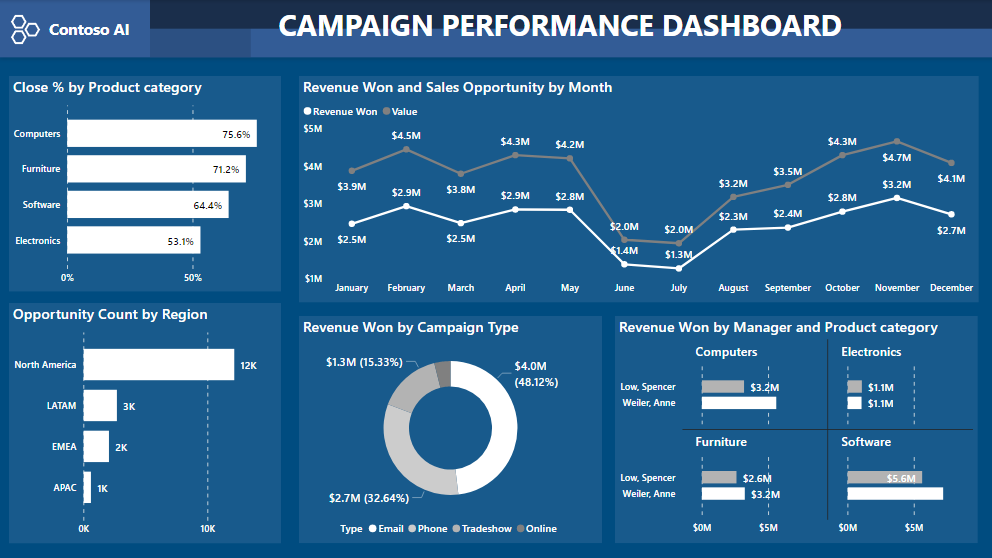

What the dashboard file says about the page in this screenshot:
{"tool":"powerbi","page":{"name":"Campaign performance Dashboard","canvas":[1280,720],"ordinal":0},"visuals":[{"type":"barChart","fields":{"Y":["Opportunities.Close %"],"Category":["Products.Product category"]},"box":[11,97.7,351,278],"z":0},{"type":"shape","title":"Horizontal Shape","box":[0,0.5,1312.3,73.7],"z":1000},{"type":"barChart","fields":{"Y":["Opportunities.Opportunity Count"],"Category":["Accounts.Region"]},"box":[11,390.9,351,309.7],"z":2000},{"type":"actionButton","title":"Btn - Sales","box":[193.9,0.5,129.8,73.7],"z":3000},{"type":"shape","title":"Horizontal Shape","box":[193.9,0.5,1118.3,36.8],"z":4000},{"type":"textbox","box":[316.6,1.4,813.4,72.9],"z":6000},{"type":"actionButton","title":"Title Logo","box":[49,16.8,134.2,41.3],"z":7000},{"type":"image","box":[3.9,0,58.1,74.8],"z":8000},{"type":"clusteredBarChart","fields":{"Y":["Opportunities.Revenue Won"],"Rows":["Products.Product category"],"Category":["Owners.Manager"]},"box":[794.2,407.4,468,293.2],"z":9000},{"type":"donutChart","title":"Revenue Won by Campaign Type","fields":{"Category":["Campaigns.Type"],"Y":["Opportunities.Revenue Won"]},"box":[385.4,407.4,390.9,293.2],"z":10000},{"type":"lineChart","title":"Revenue Won and Sales Opportunity by Month","fields":{"Category":["LocalDateTable_9e0bbdfc-9803-41d0-b204-481ce398f228.Month"],"Y":["Opportunities.Revenue Won","Opportunities.Value"]},"box":[385.4,97.7,876.7,291.8],"z":11000}]}

Visuals, with their boxes in screenshot pixels (x1, y1, x2, y2), scaled from the page's 1280x720 canvas onto the 992x558 screenshot:
barChart - Opportunities.Close % x Products.Product category: 9/76/281/291
"Horizontal Shape" shape: 0/0/991/58
barChart - Opportunities.Opportunity Count x Accounts.Region: 9/303/281/543
"Btn - Sales" actionButton: 150/0/251/58
"Horizontal Shape" shape: 150/0/991/29
textbox: 245/1/876/58
"Title Logo" actionButton: 38/13/142/45
image: 3/0/48/58
clusteredBarChart - Opportunities.Revenue Won x Products.Product category: 616/316/978/543
"Revenue Won by Campaign Type" donutChart: 299/316/602/543
"Revenue Won and Sales Opportunity by Month" lineChart: 299/76/978/302
